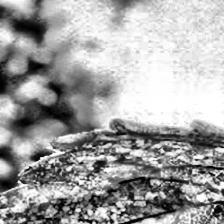Angular Leafspot: (0, 118, 224, 224)
